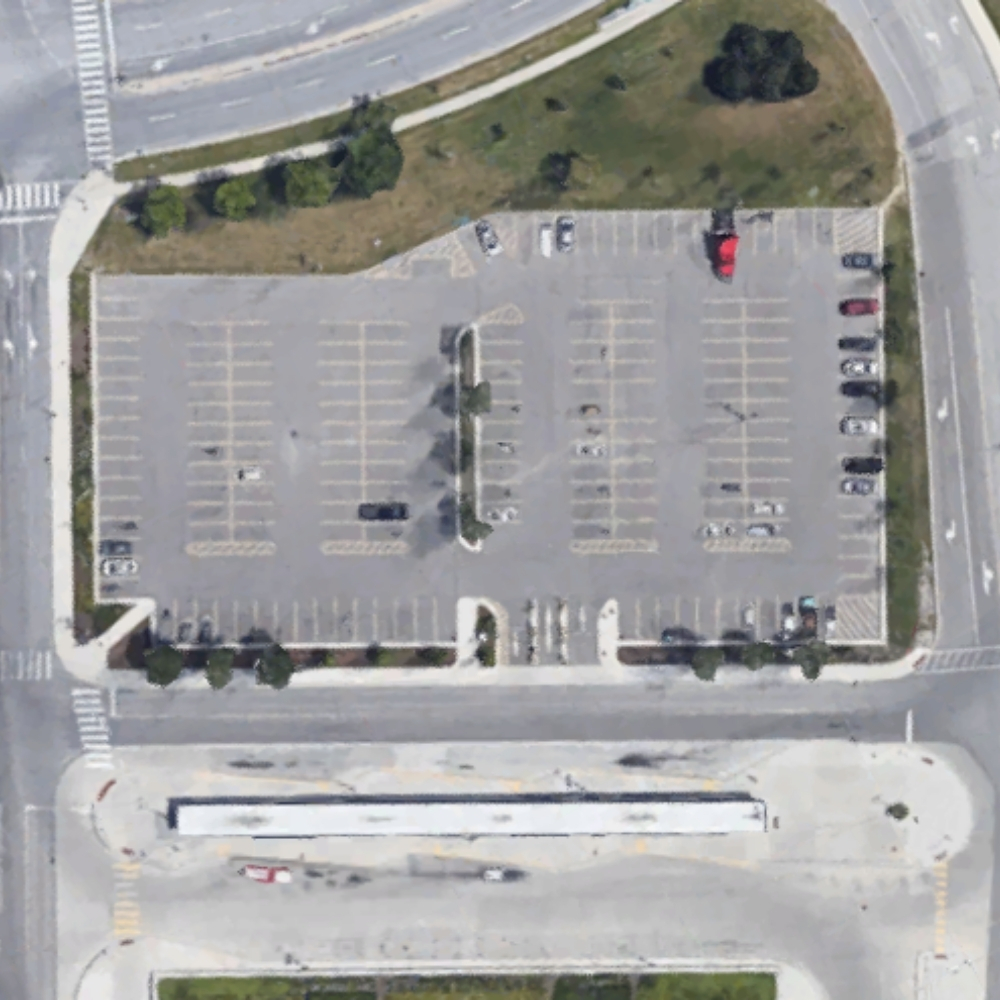parking: (90, 220, 885, 645)
